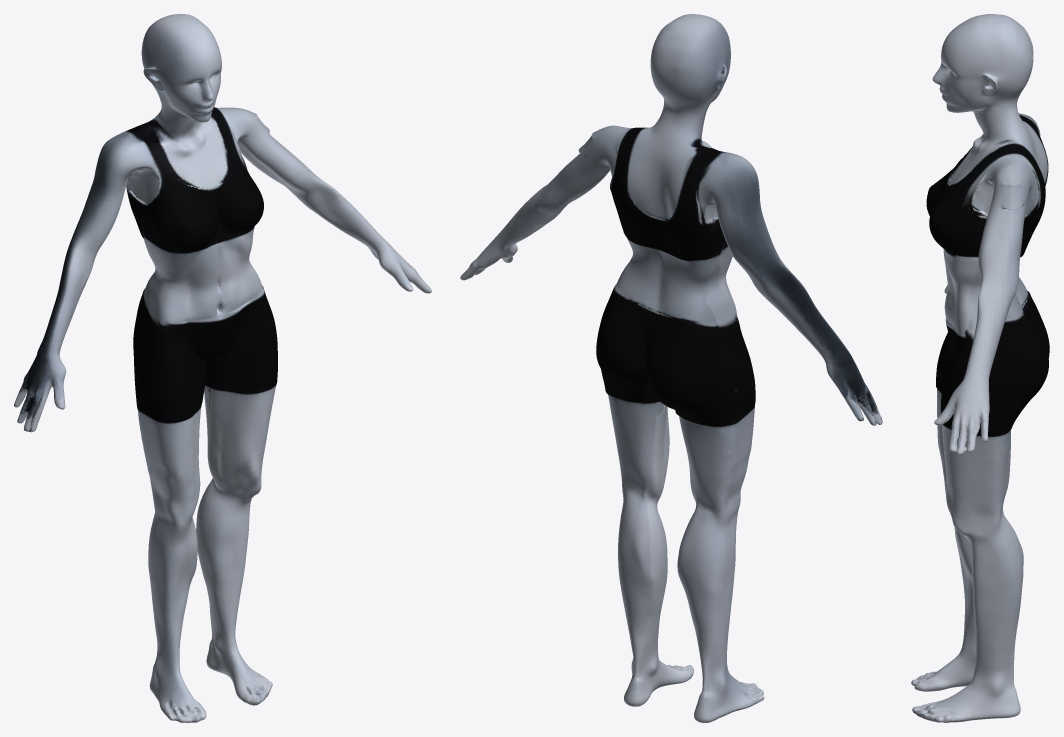
File: base_mujer.glb
3 renders of one model, left to right at view 1: azimuth 30°, elevation 25°; view 2: azimuth 150°, elevation 25°; view 3: azimuth 270°, elevation 25°, orthographic. The views are drawn at different scales.
Parts seen in each view (by area): view 1: model; view 2: model; view 3: model.
Boxes of the visible parts, x1,y1,x2,y2 form: model: (14, 14, 431, 722); model: (460, 14, 882, 722); model: (911, 14, 1049, 722).
Bounding box in the file's own units: 1.2 × 1.9 × 0.3513.
1 material, 1 textured.
